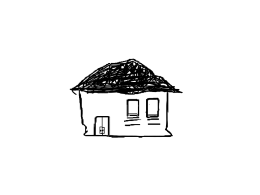door: (90, 110, 114, 142)
open_window: (143, 96, 165, 120), (124, 97, 141, 124)
shaded_roof: (63, 53, 187, 97)
small_house: (1, 1, 260, 195)
wall: (78, 86, 175, 144)
